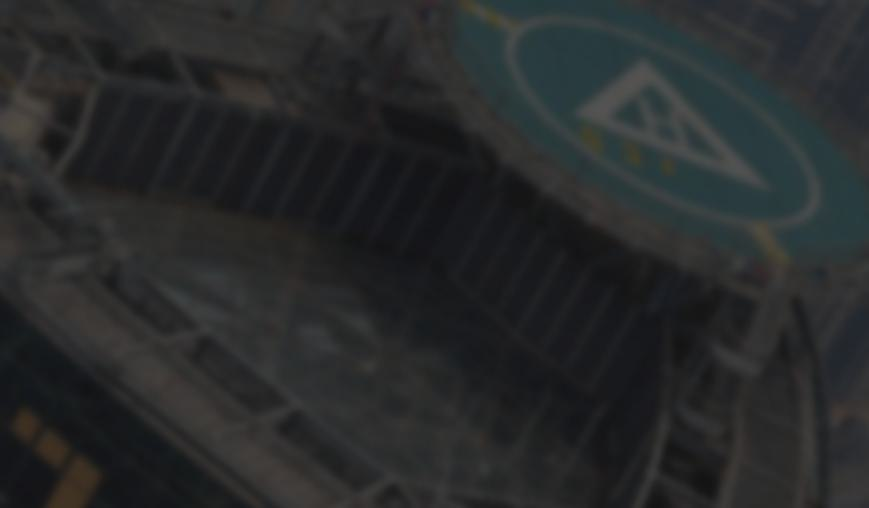Apron: (502, 10, 862, 232)
